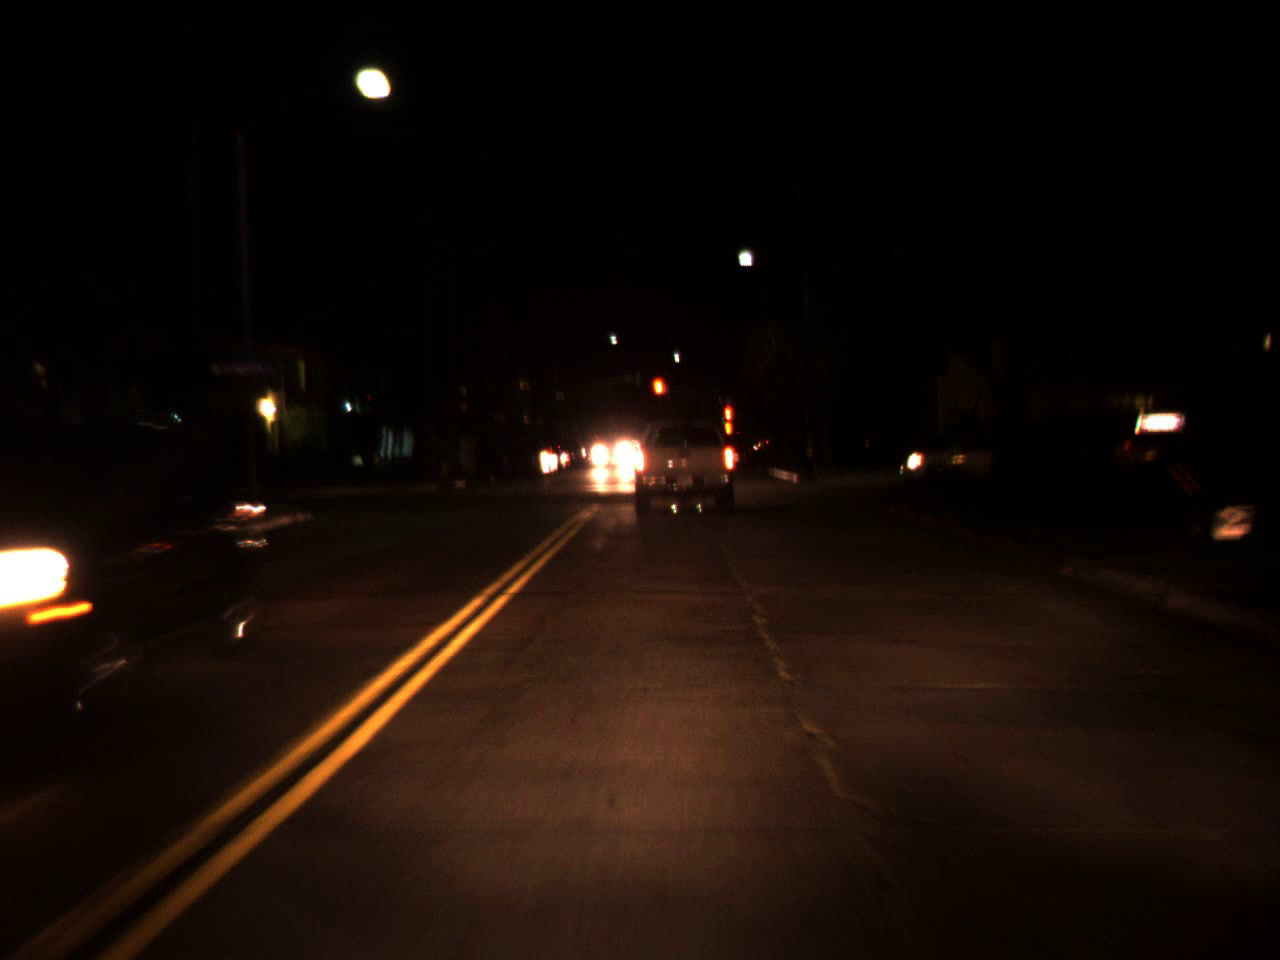stop: (649, 374, 668, 417), (720, 402, 735, 434)
